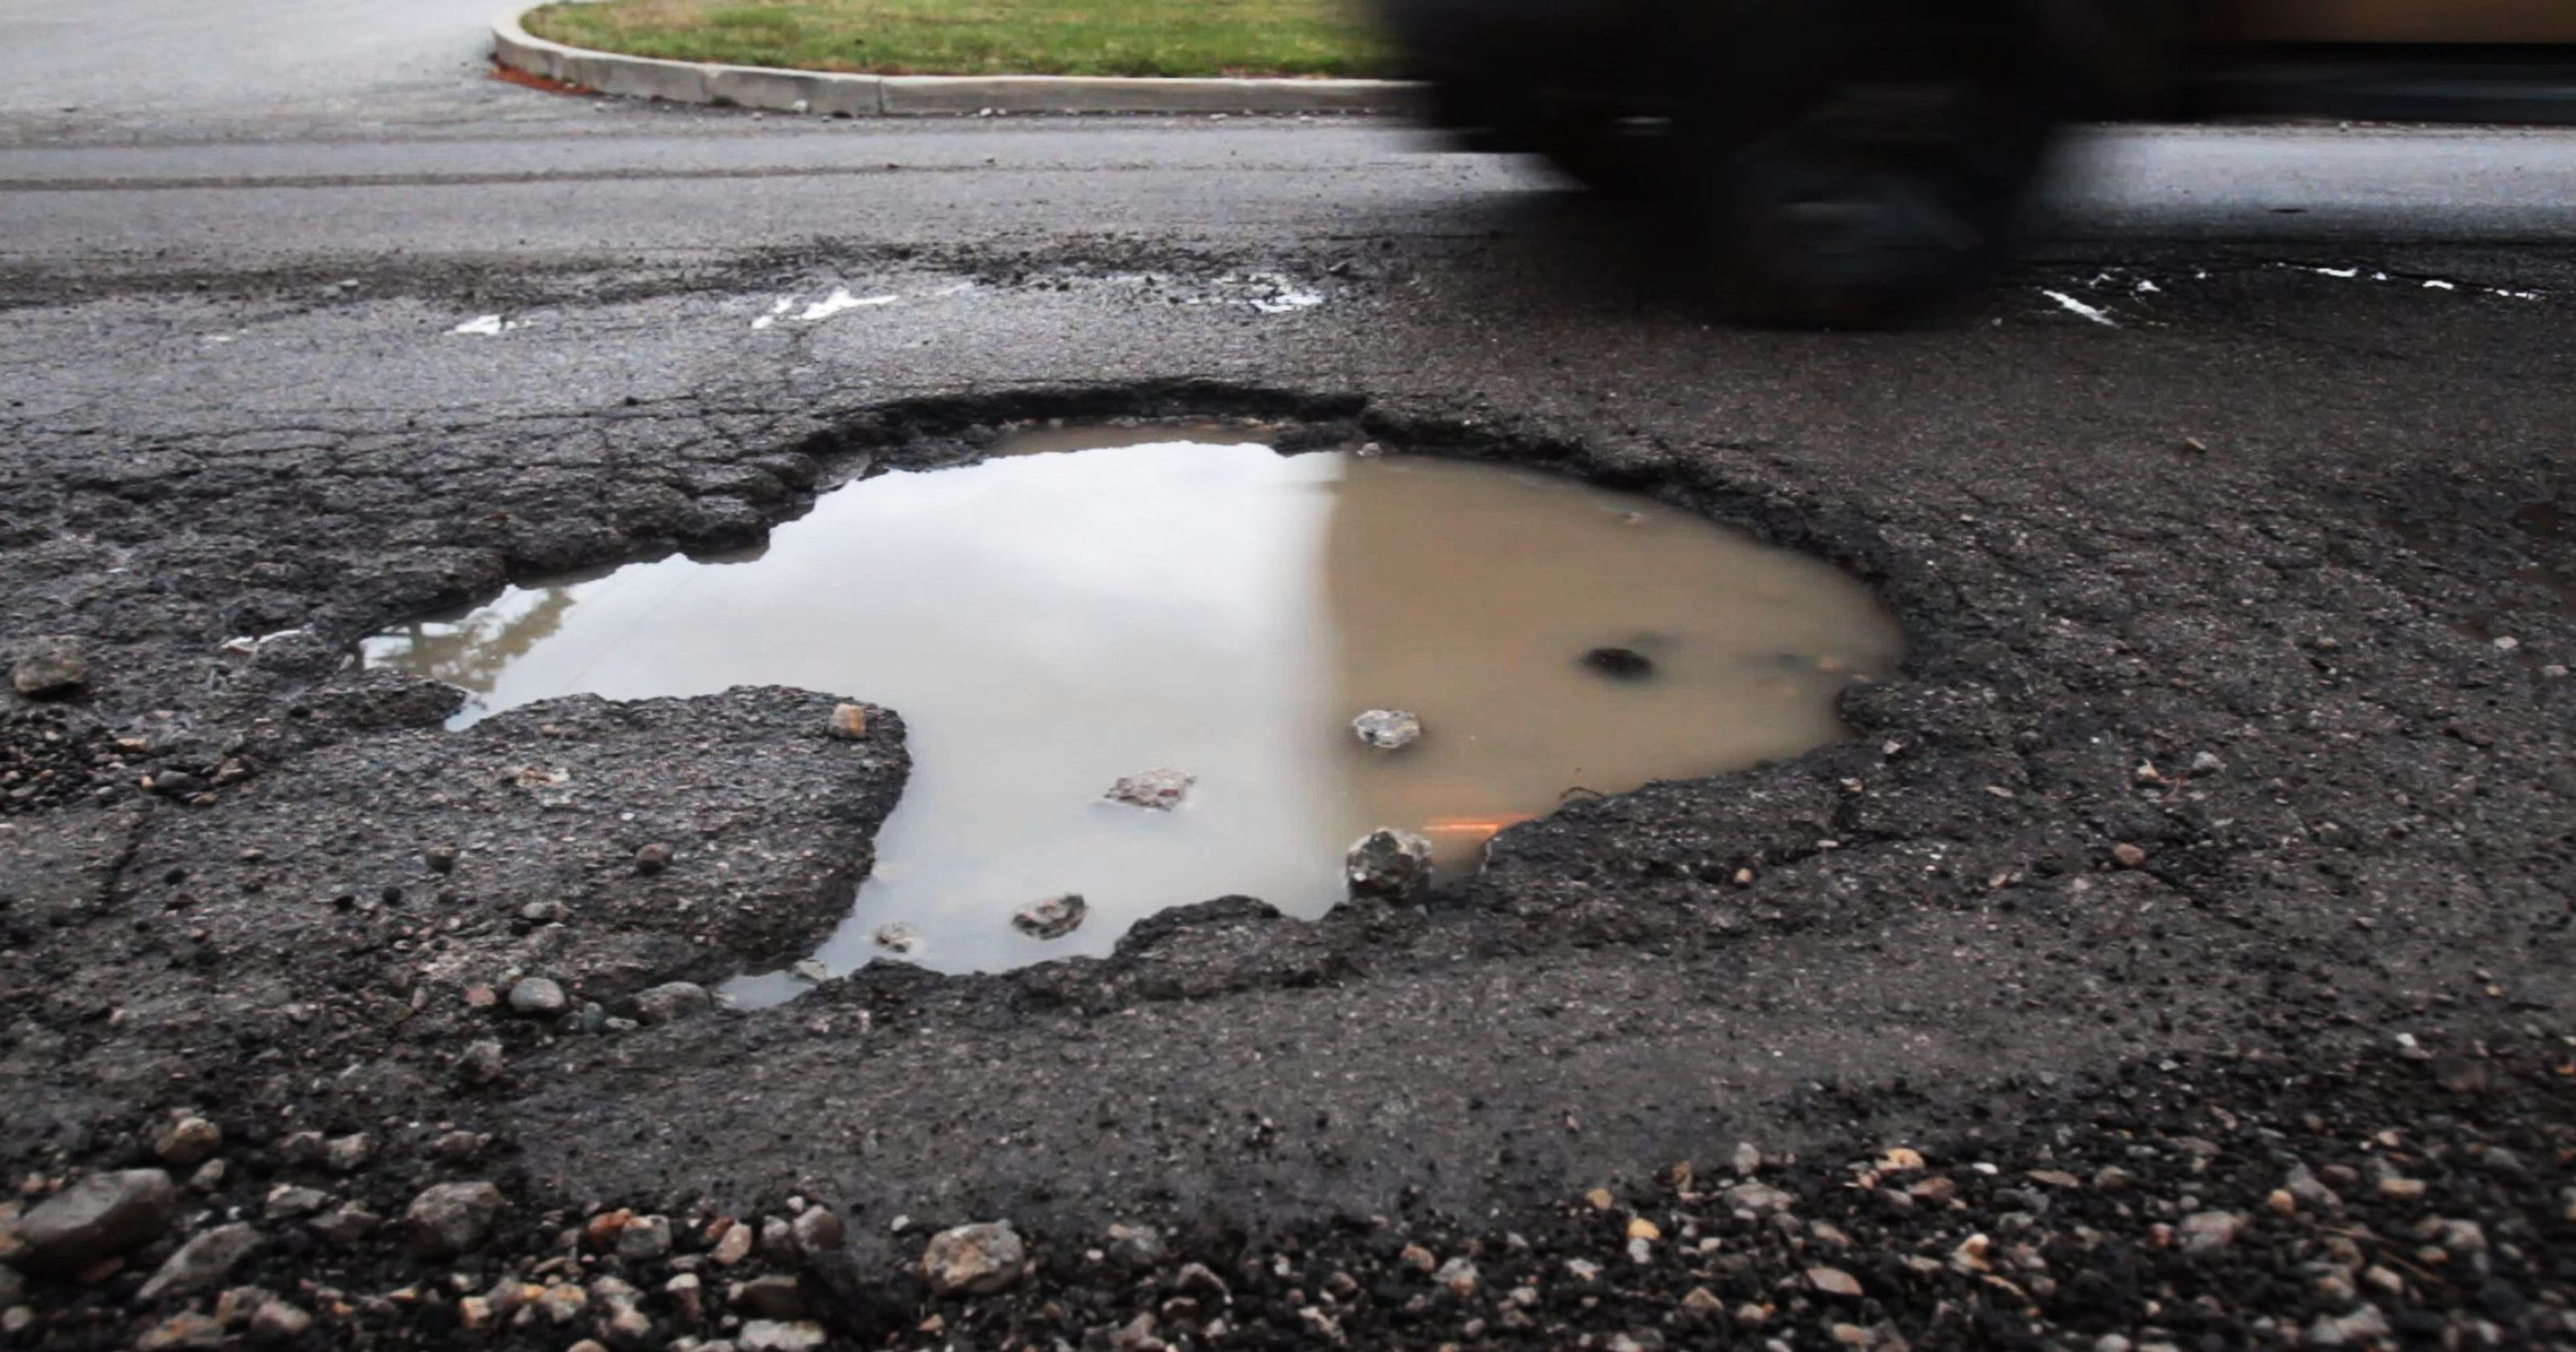pothole: (317, 289, 1942, 984)
